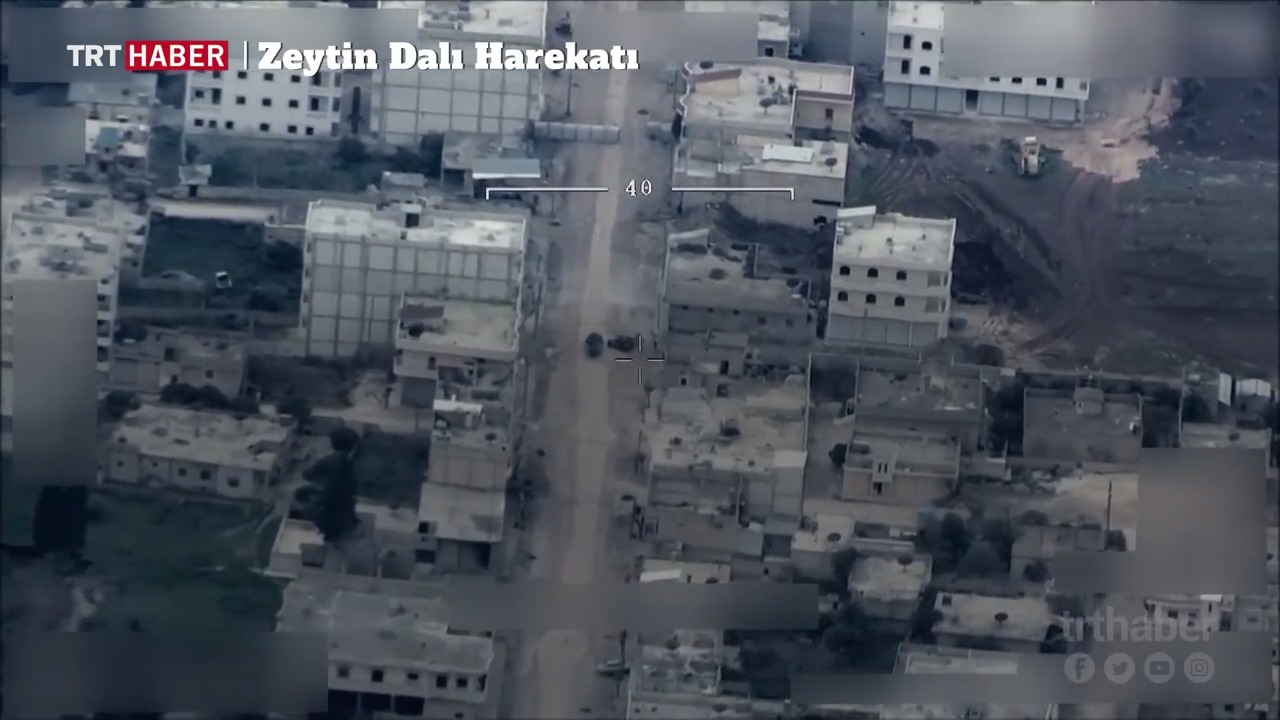arac: (1021, 132, 1050, 181), (609, 330, 646, 354), (583, 327, 606, 362), (598, 656, 629, 681), (212, 268, 240, 293)
bina: (301, 199, 532, 362), (676, 54, 867, 211), (825, 208, 971, 341), (98, 402, 309, 492), (664, 233, 824, 341), (840, 416, 964, 505), (1018, 386, 1154, 465), (103, 331, 260, 398)
insan: (651, 337, 660, 356)
